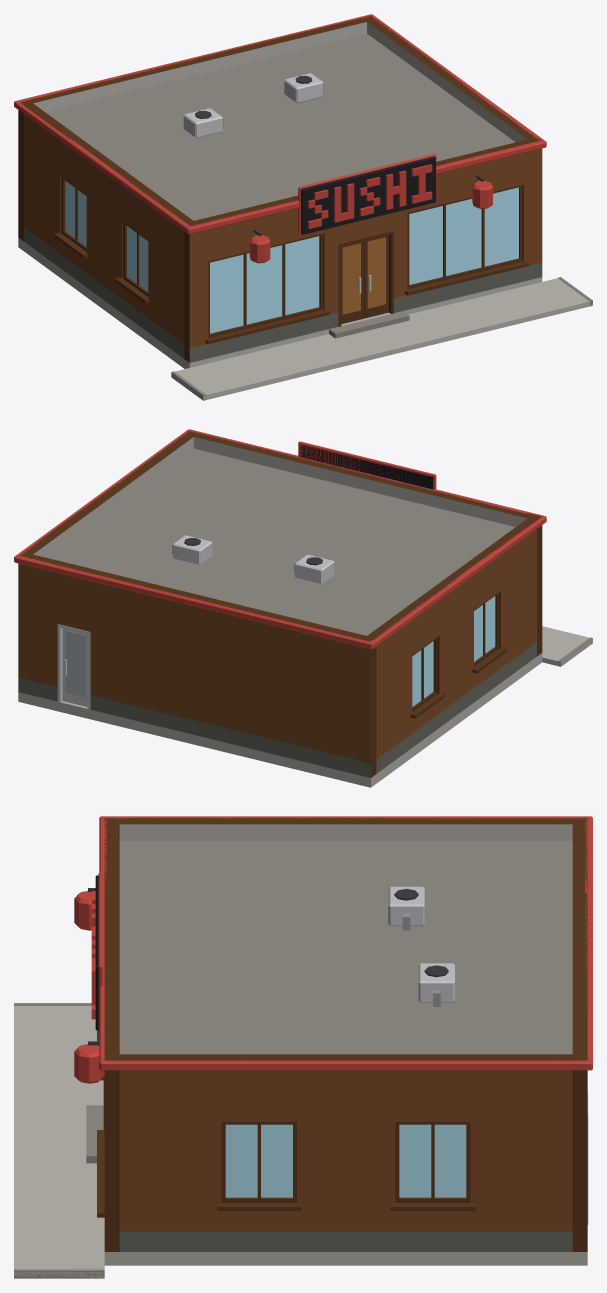
Rendered from SushiBar.fbx.
3 renders of one model, top to bottom at view 1: azimuth 30°, elevation 25°; view 2: azimuth 150°, elevation 25°; view 3: azimuth 270°, elevation 25°, orthographic. The views are drawn at different scales.
Visible parts, largest first — view 1: SushiBar, SushiBar_Roof, SushiBar_Glass, SushiBar_Sign, SushiBar_DoorR, SushiBar_DoorL; view 2: SushiBar, SushiBar_Roof, SushiBar_Sign, SushiBar_Glass, SushiBar_BackDoor; view 3: SushiBar, SushiBar_Roof, SushiBar_Glass, SushiBar_Sign.
Part boxes in pixels (x1,y1,x2,y2): SushiBar: (14, 14, 592, 400); SushiBar_Roof: (45, 33, 515, 220); SushiBar_Glass: (65, 181, 518, 333); SushiBar_Sign: (249, 153, 492, 263); SushiBar_DoorR: (364, 235, 388, 318); SushiBar_DoorL: (341, 241, 363, 323); SushiBar: (14, 429, 592, 787); SushiBar_Roof: (45, 448, 515, 635); SushiBar_Sign: (298, 441, 436, 489); SushiBar_Glass: (412, 596, 495, 706); SushiBar_BackDoor: (62, 628, 87, 706); SushiBar: (14, 816, 592, 1278); SushiBar_Roof: (119, 841, 572, 1054); SushiBar_Glass: (225, 1124, 466, 1197); SushiBar_Sign: (74, 872, 104, 1083).
Size of the model in its own units: 42 by 16.5 by 38.35.
Materials: 1 (1 with a texture image).
